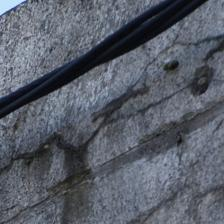Crack: (3, 22, 224, 175)
